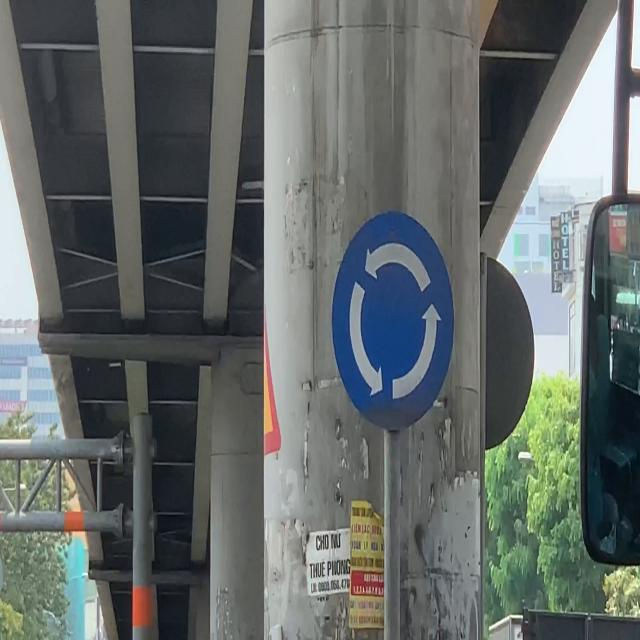Vong xuyen: (331, 213, 458, 435)
